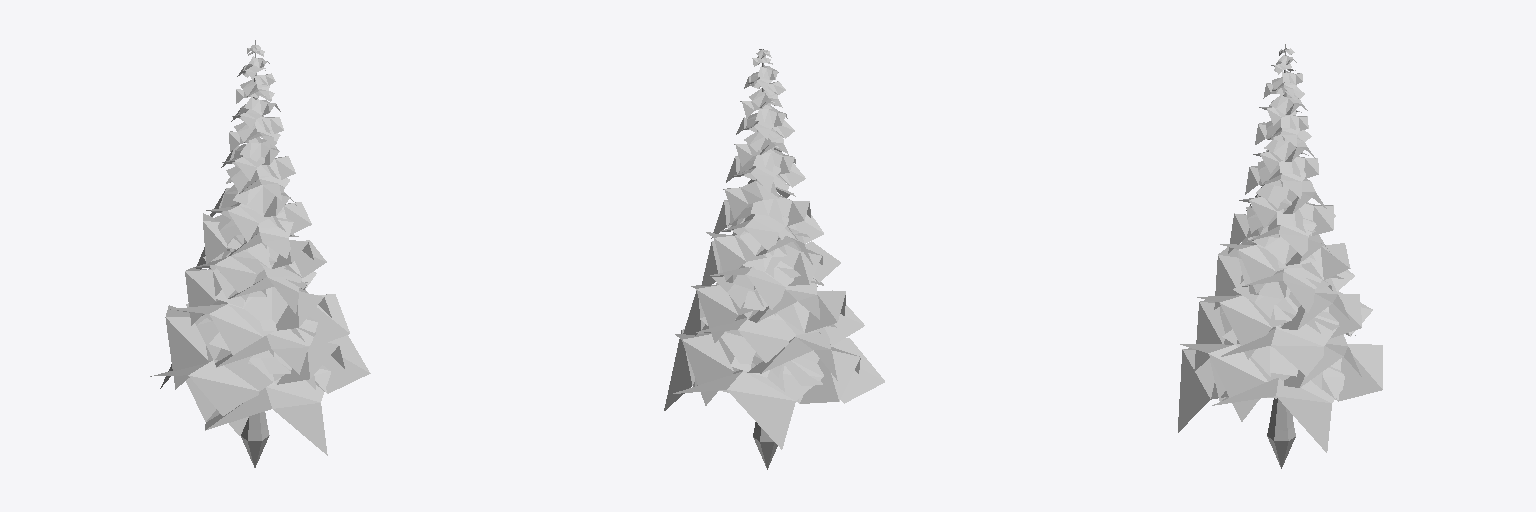
The model's file is Spruce_Tree1.obj.
3 views of the same model, side by side, from view 1: azimuth 30°, elevation 25°; view 2: azimuth 150°, elevation 25°; view 3: azimuth 270°, elevation 25° (orthographic).
Parts seen in each view (by area): view 1: RHE_SpruceA_Trunk1; view 2: RHE_SpruceA_Trunk1; view 3: RHE_SpruceA_Trunk1.
Part boxes in pixels (x1,y1,x2,y2): RHE_SpruceA_Trunk1: (150, 40, 370, 467); RHE_SpruceA_Trunk1: (664, 49, 884, 469); RHE_SpruceA_Trunk1: (1178, 44, 1382, 468).
Bounding box in the file's own units: 7.85 × 18.06 × 7.91.